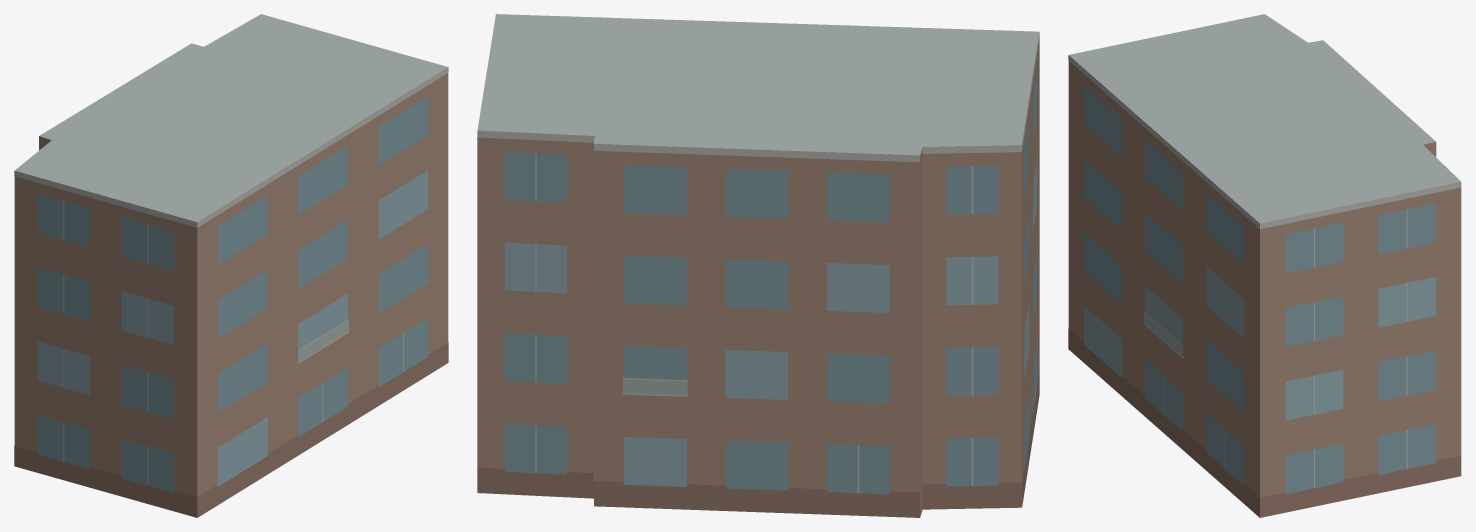
Rendered from survey-upis-32739650.glb.
3 renders of one model, left to right at view 1: azimuth 30°, elevation 25°; view 2: azimuth 150°, elevation 25°; view 3: azimuth 270°, elevation 25°, orthographic. The views are drawn at different scales.
Visible parts, largest first — view 1: survey-upis-32739650.tmp; view 2: survey-upis-32739650.tmp; view 3: survey-upis-32739650.tmp.
Part boxes in pixels (x1,y1,x2,y2): survey-upis-32739650.tmp: [14, 14, 448, 517]; survey-upis-32739650.tmp: [477, 14, 1039, 517]; survey-upis-32739650.tmp: [1068, 14, 1461, 517].
Size of the model in its own units: 19.56 by 12.8 by 15.5.
